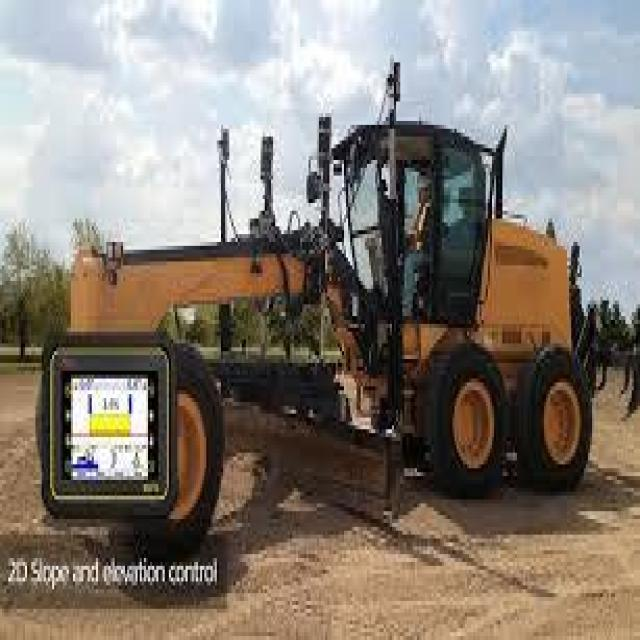buldozerpayloadergrader: (48, 86, 638, 597)
